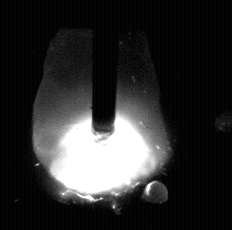arame: (92, 0, 117, 134)
poca: (32, 0, 170, 230)
